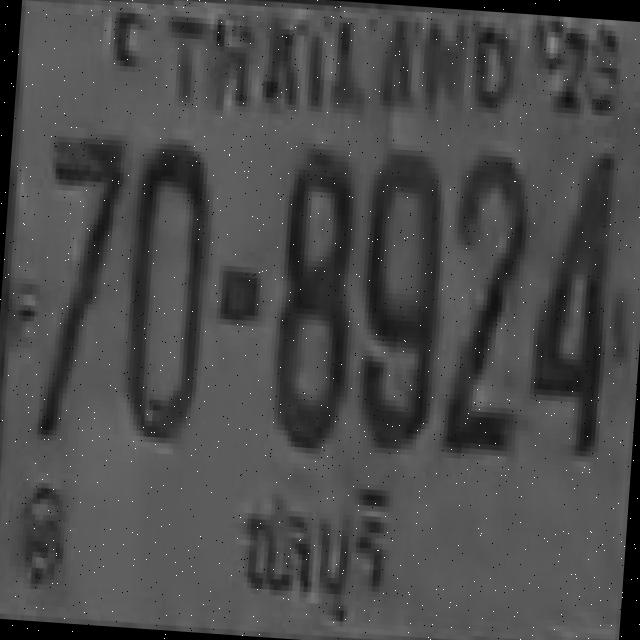0: (117, 136, 213, 439)
2: (439, 148, 533, 424), (442, 148, 531, 403)
4: (520, 143, 616, 452)
7: (30, 130, 126, 423), (37, 130, 126, 385), (39, 130, 126, 353), (41, 130, 126, 328)
8: (264, 142, 360, 444)
9: (352, 147, 448, 445)
Chonburi: (218, 478, 399, 638)
